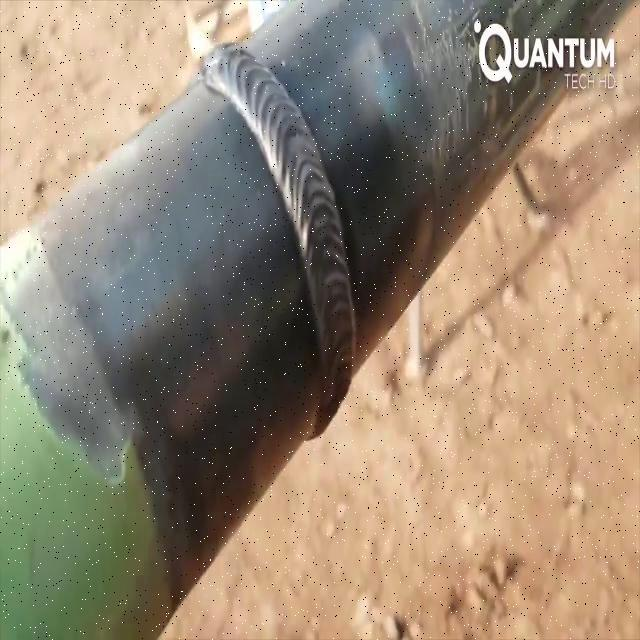Good Welding: (203, 41, 359, 441)
